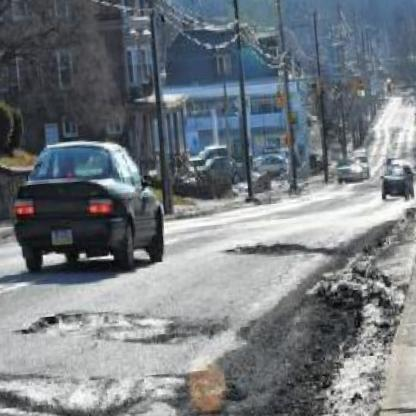pothole: (13, 299, 181, 358), (0, 353, 149, 416), (221, 236, 313, 261)
